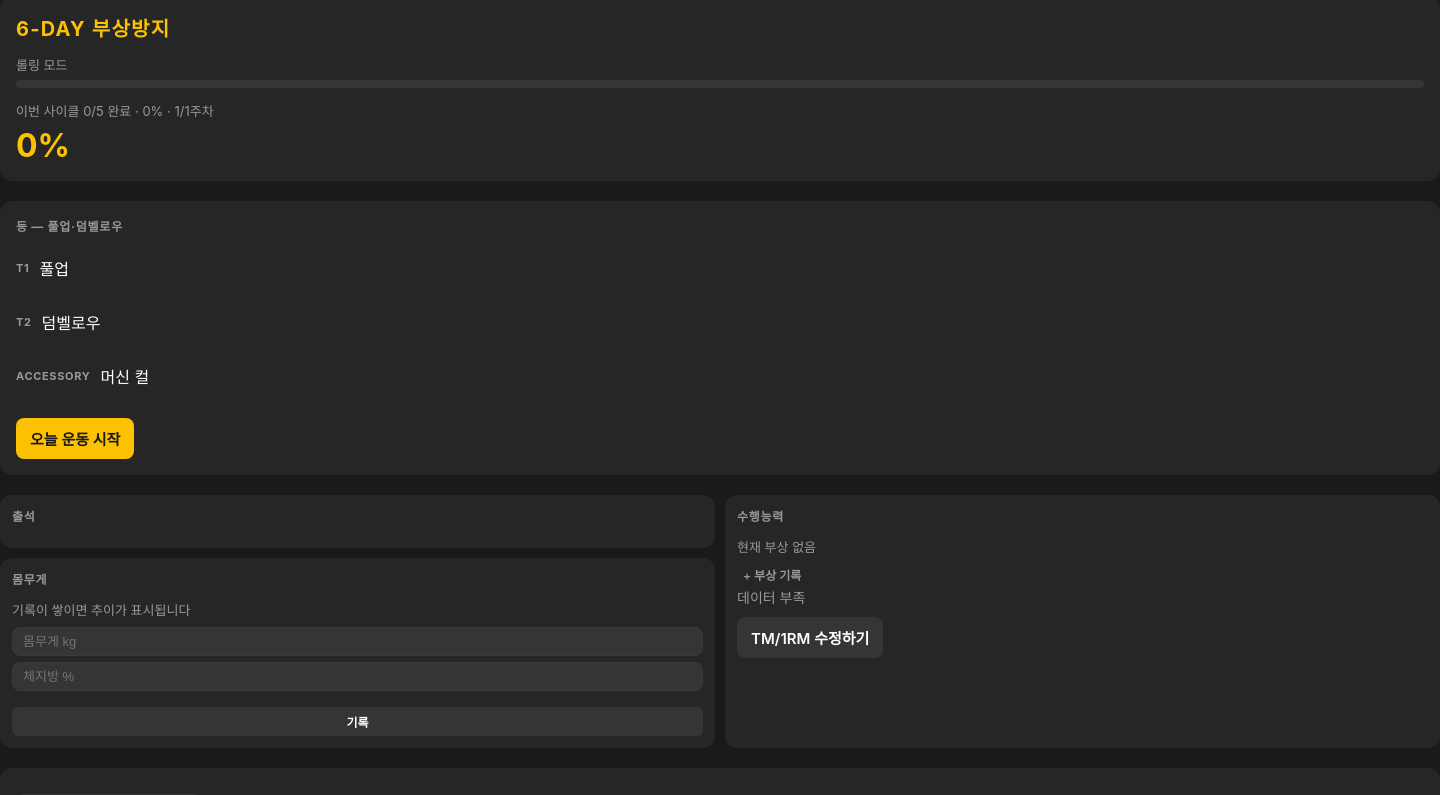
HomeScreen › 항목3 — TM 패널 재구성(kk-6day) › T1 5종 모두 행으로 나타나고, T2 중 bench(T1과 중복)는 T2 그룹에서 빠진다
The image size is (1440, 795).
Click the button with test id "tm-edit-toggle" at (810, 638), box [737,617,883,658]
(page scrolled)
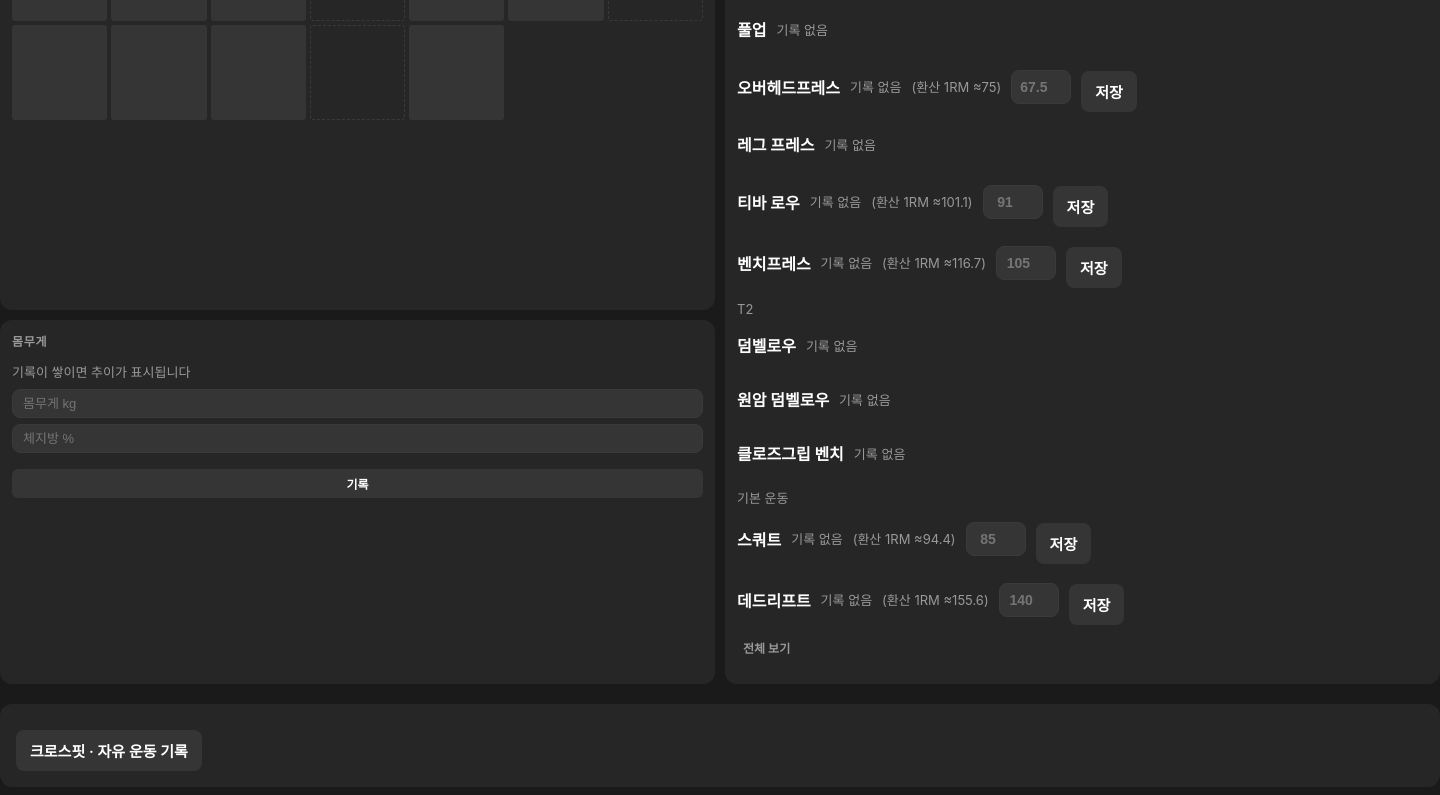
Result: the list item with test id "tm-panel-row-pullup" is shown at [737,20,828,40]
Result: the list item with test id "tm-panel-row-ohp" is shown at [737,70,1137,112]
Result: the number of list items with test id "tm-panel-row-bench" is 1 at [737,246,1122,288]
